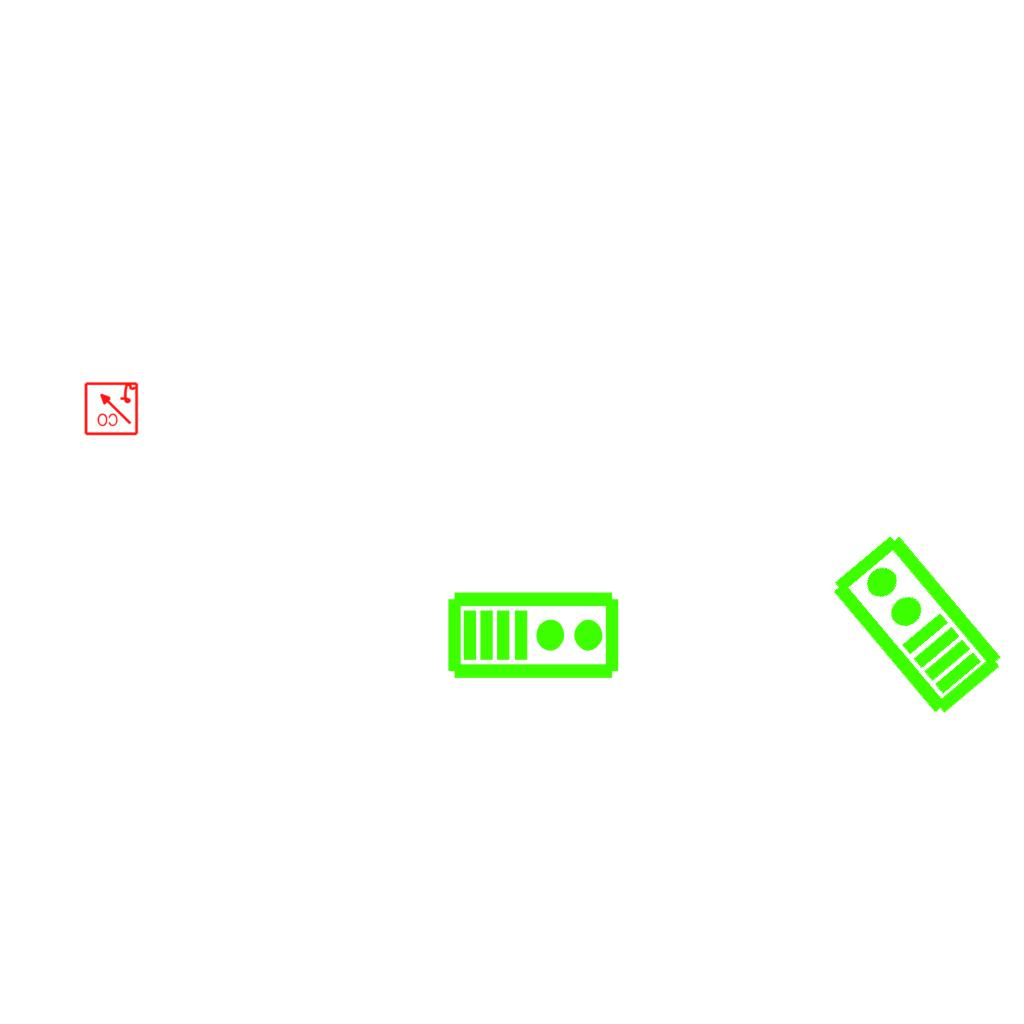Gegensprechanlage_mit_Video: (822, 527, 1009, 723), (446, 586, 622, 681)
ROA_Rauchmelder_optisch_mit_Signalgeber_(Sockelsirene): (83, 380, 139, 436)
